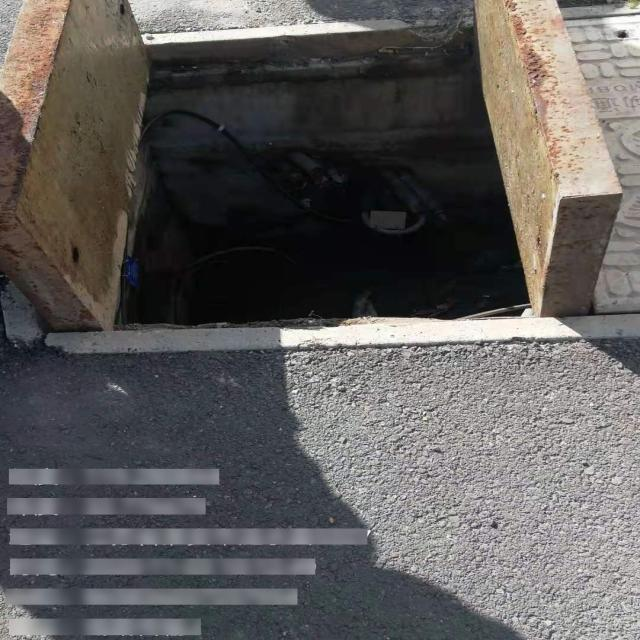Lose: (8, 0, 636, 350)
